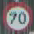Speed limit: (2, 0, 33, 32)
